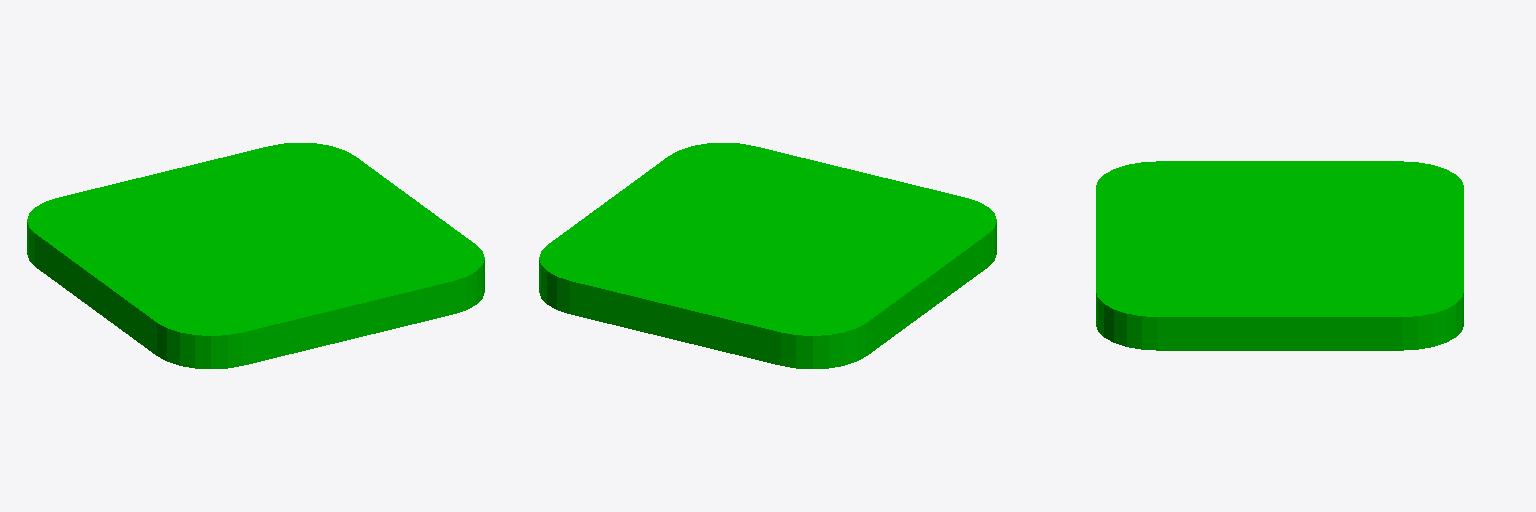
File: CaseForet.obj
3 renders of one model, left to right at view 1: azimuth 30°, elevation 25°; view 2: azimuth 150°, elevation 25°; view 3: azimuth 270°, elevation 25°, orthographic.
Visible parts, largest first — view 1: Grass; view 2: Grass; view 3: Grass.
Boxes of the visible parts, box(x1,y1,x2,y2) form: Grass: box(27, 143, 484, 368); Grass: box(539, 143, 996, 368); Grass: box(1096, 161, 1463, 350).
Size of the model in its own units: 2 by 0.2 by 2.